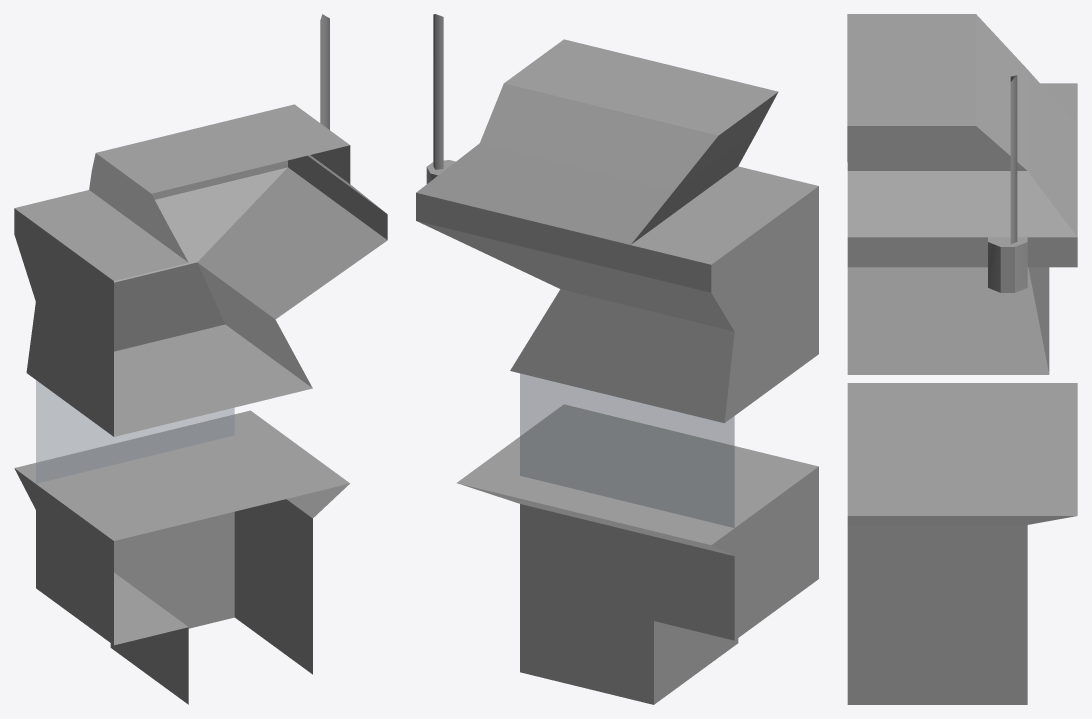
3 renders of one model, left to right at view 1: azimuth 30°, elevation 25°; view 2: azimuth 150°, elevation 25°; view 3: azimuth 270°, elevation 25°, orthographic. The views are drawn at different scales.
Parts seen in each view (by area): view 1: B1; view 2: B1; view 3: B1.
Boxes of the visible parts, bbox=[...] form: B1: bbox=[14, 14, 387, 704]; B1: bbox=[416, 14, 818, 704]; B1: bbox=[847, 14, 1077, 704].
Size of the model in its own units: 82.27 by 158 by 48.85.
